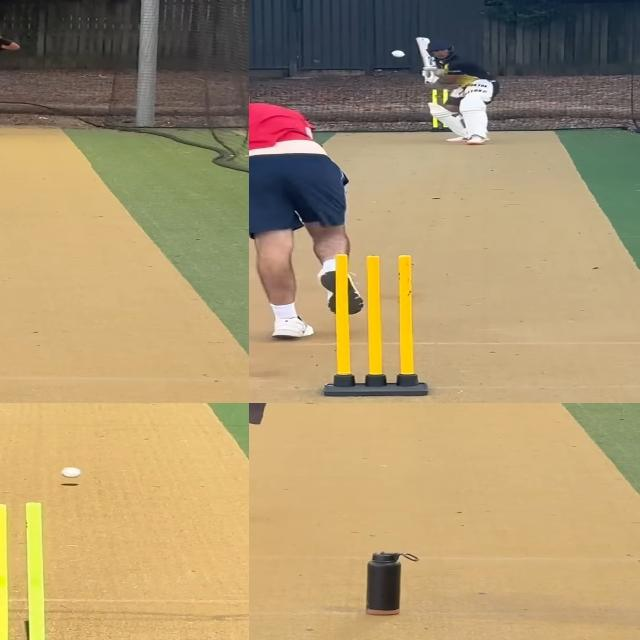Cricket ball: (56, 464, 85, 481), (390, 50, 406, 60)
Stumps: (323, 253, 429, 399), (0, 498, 64, 640)
